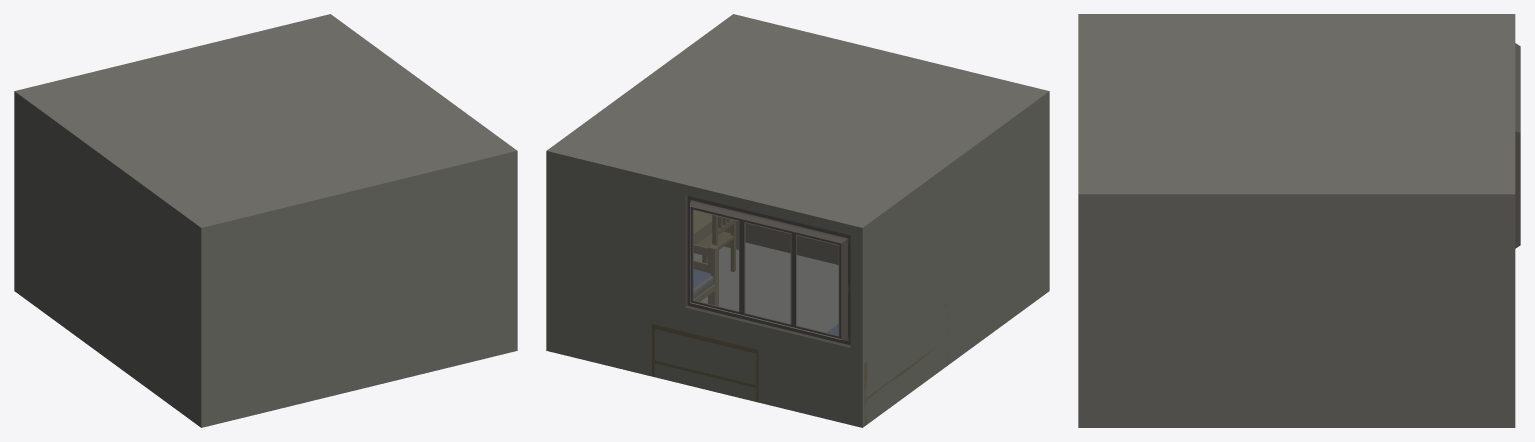
Rendered from bedroom1.fbx.
The picture shows the model from 3 angles, left to right: view 1: azimuth 30°, elevation 25°; view 2: azimuth 150°, elevation 25°; view 3: azimuth 270°, elevation 25°; orthographic projection. The views are drawn at different scales.
Visible parts, largest first — view 1: wallL3, cieling, wallL; view 2: wallL2, cieling, wallL, floor, closet, table, bedstool, chair1, desk1; view 3: wallL1, cieling, wallL2.
Boxes of the visible parts, <box> form: wallL3: <box>201,151,517,427</box>; cieling: <box>14,14,517,227</box>; wallL: <box>14,91,201,427</box>; wallL2: <box>546,151,862,427</box>; cieling: <box>546,14,1049,227</box>; wallL: <box>862,91,1049,427</box>; floor: <box>693,242,838,332</box>; closet: <box>745,223,838,264</box>; table: <box>652,324,758,402</box>; bedstool: <box>693,244,718,306</box>; chair1: <box>697,215,735,271</box>; desk1: <box>693,210,738,249</box>; wallL1: <box>1078,194,1515,427</box>; cieling: <box>1078,14,1515,194</box>; wallL2: <box>1515,43,1520,248</box>.
Size of the model in its own units: 23.76 by 14.36 by 24.64.
